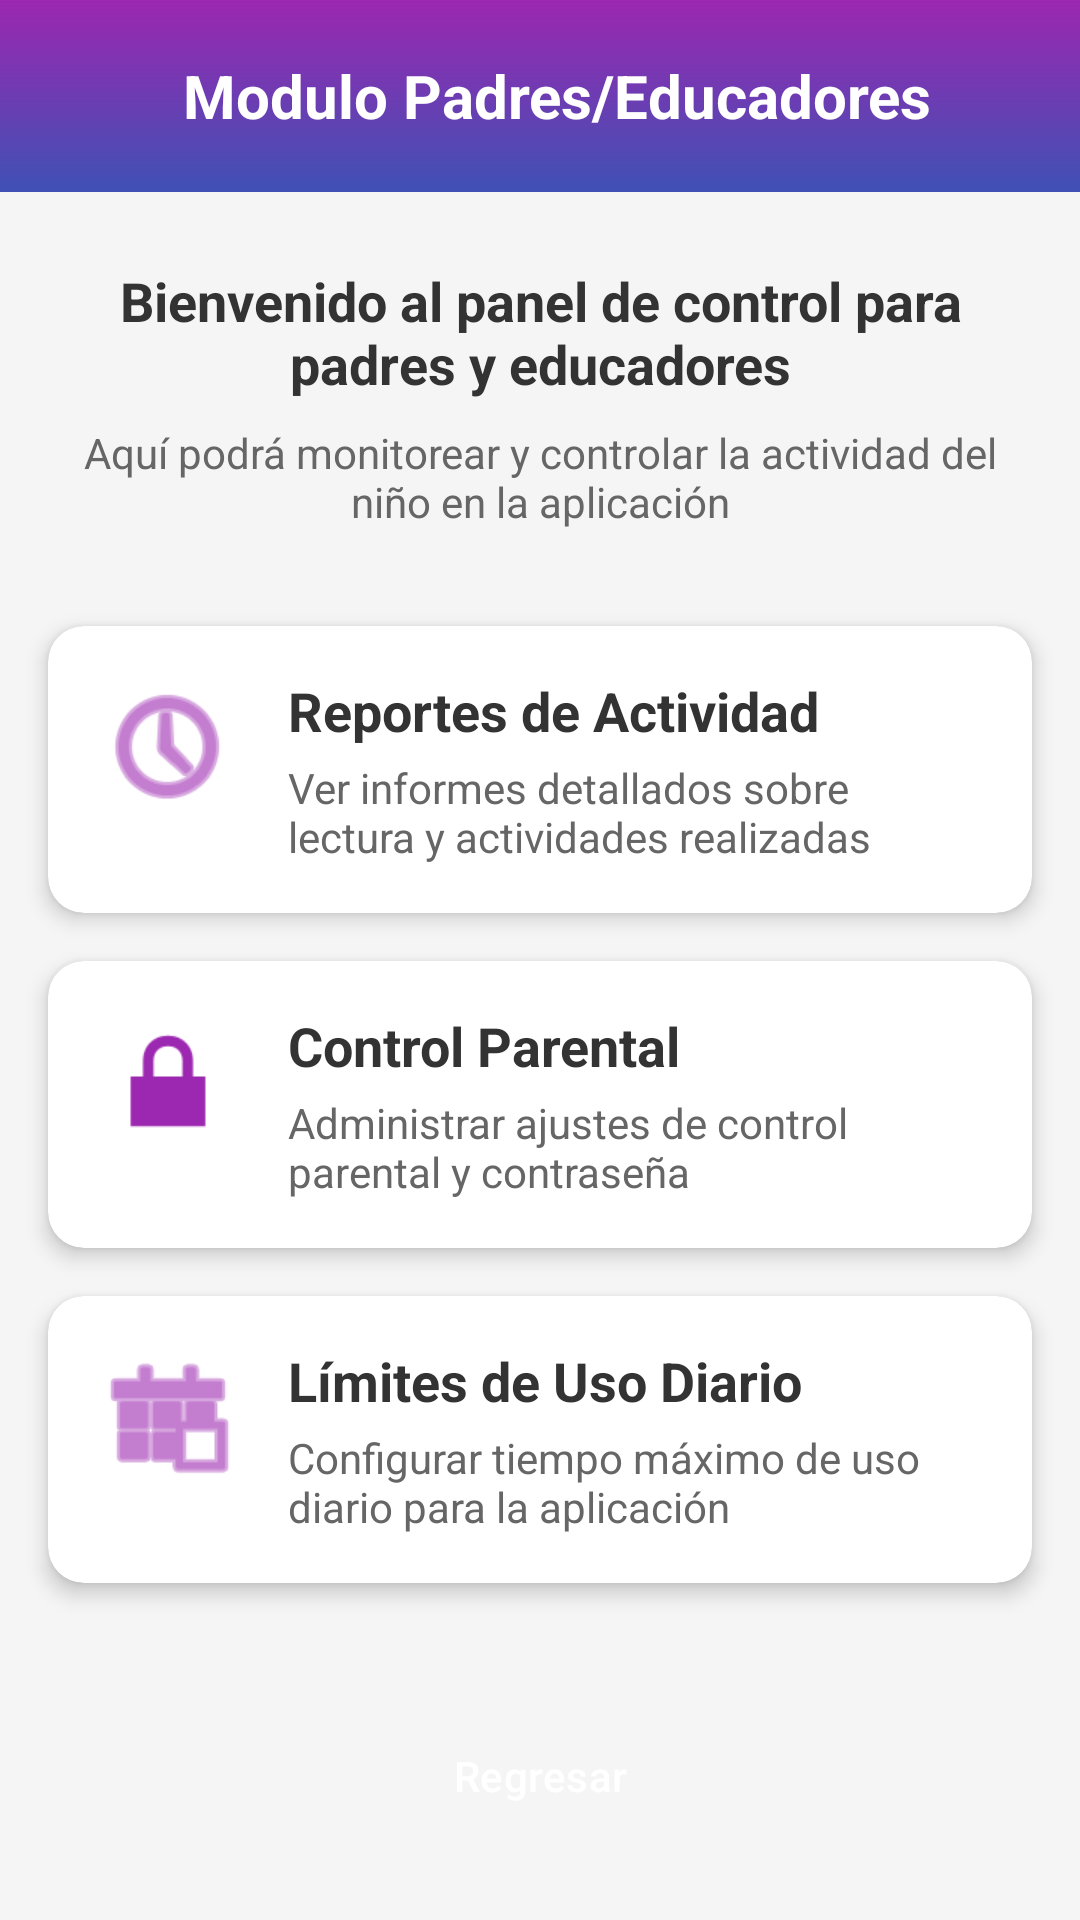

Screen size 1080 x 1920. Icon name, then its center in pixels as (x=x, y=y):
lock: (x=168, y=1081)
recent history: (x=167, y=747)
today: (x=169, y=1418)
